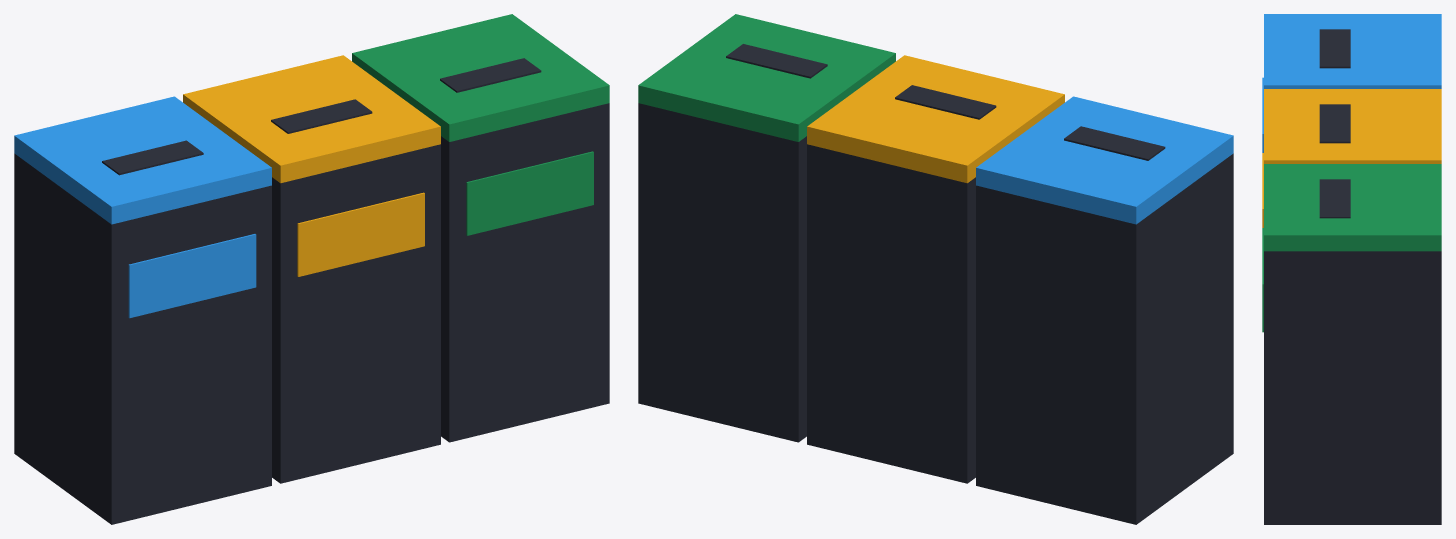
File: sch-039.glb
The picture shows the model from 3 angles, left to right: view 1: azimuth 30°, elevation 25°; view 2: azimuth 150°, elevation 25°; view 3: azimuth 270°, elevation 25°; orthographic projection. The views are drawn at different scales.
Parts seen in each view (by area): view 1: plastic_dark, plastic_blue, safety_green, accent_amber; view 2: plastic_dark, plastic_blue, safety_green, accent_amber; view 3: plastic_dark, safety_green, plastic_blue, accent_amber.
Part boxes in pixels (bbox=[...]): plastic_dark: bbox=[14, 58, 609, 524]; plastic_blue: bbox=[14, 96, 271, 318]; safety_green: bbox=[352, 14, 609, 235]; accent_amber: bbox=[183, 55, 440, 276]; plastic_dark: bbox=[638, 44, 1233, 524]; plastic_blue: bbox=[976, 96, 1233, 224]; safety_green: bbox=[638, 14, 895, 141]; accent_amber: bbox=[807, 55, 1064, 183]; plastic_dark: bbox=[1264, 29, 1441, 524]; safety_green: bbox=[1262, 164, 1441, 332]; plastic_blue: bbox=[1262, 14, 1441, 152]; accent_amber: bbox=[1262, 89, 1441, 227].
Bounding box in the file's own units: 1.18 × 0.724 × 0.404.
